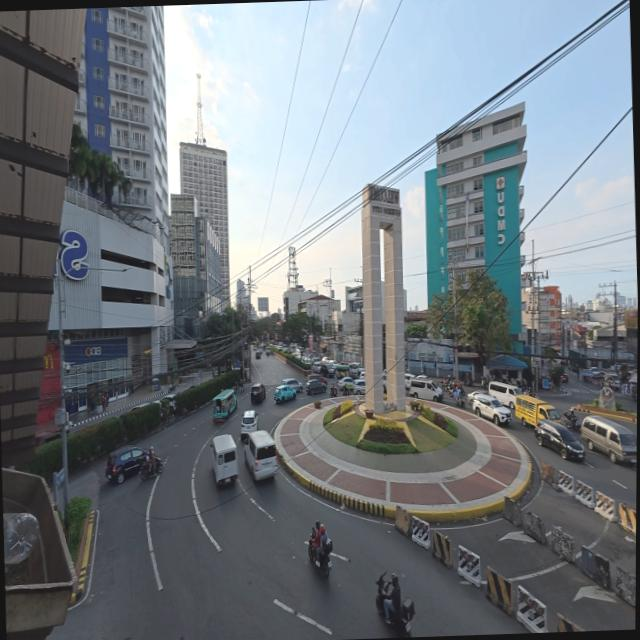car: (102, 444, 159, 486), (469, 392, 511, 427), (272, 379, 299, 402), (304, 376, 329, 396)
vans: (582, 407, 637, 466)
